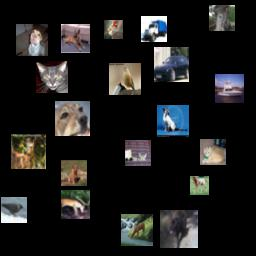automobile: (154, 47, 189, 82)
bird: (109, 63, 141, 95), (209, 5, 235, 31), (1, 197, 27, 223), (104, 20, 123, 39)
cat: (36, 61, 68, 93), (157, 105, 189, 137), (125, 140, 151, 166), (200, 139, 226, 165)
deer: (11, 134, 46, 169), (121, 214, 153, 246), (61, 190, 90, 219)
dog: (160, 210, 198, 248), (55, 101, 90, 136), (16, 24, 48, 56), (61, 24, 90, 53), (61, 160, 87, 186)
ship: (215, 74, 244, 103)
truck: (141, 16, 167, 42)
